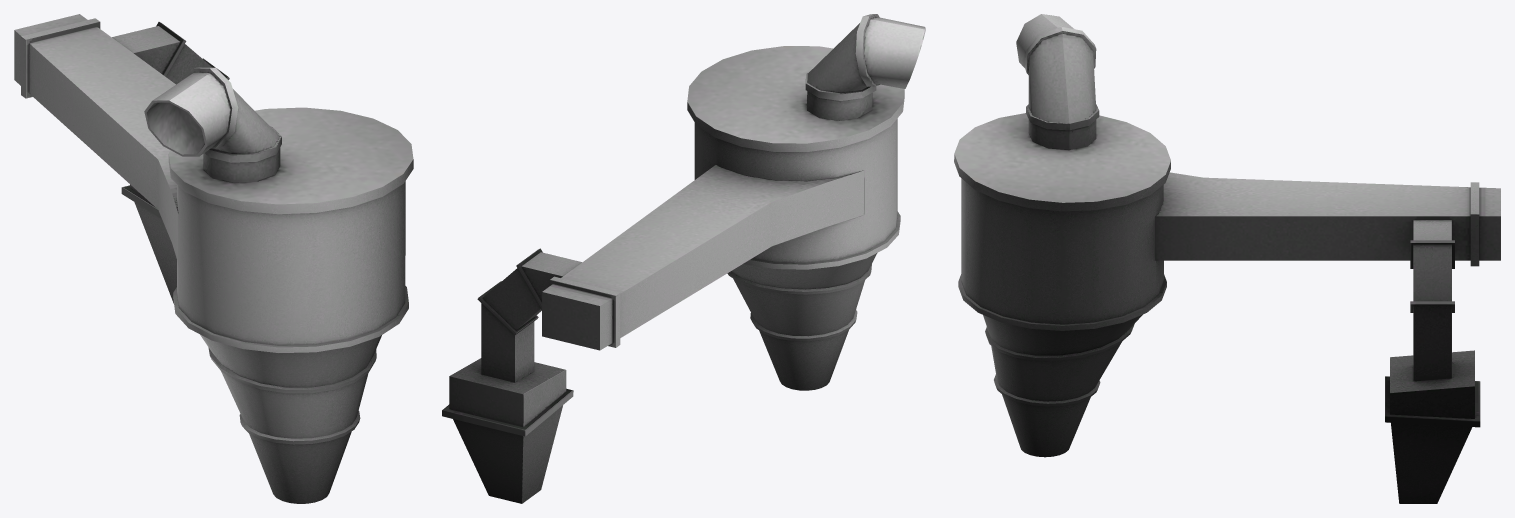
File: grain_elevator03.glb
3 views of the same model, side by side, from view 1: azimuth 30°, elevation 25°; view 2: azimuth 150°, elevation 25°; view 3: azimuth 270°, elevation 25° (orthographic). The views are drawn at different scales.
Visible parts, largest first — view 1: grain_elevator03; view 2: grain_elevator03; view 3: grain_elevator03.
Boxes of the visible parts, x1,y1,x2,y2 form: grain_elevator03: [14, 14, 413, 503]; grain_elevator03: [442, 14, 925, 503]; grain_elevator03: [954, 14, 1500, 503].
Bounding box in the file's own units: 2.98 × 4.11 × 5.29.
1 material, 1 textured.
